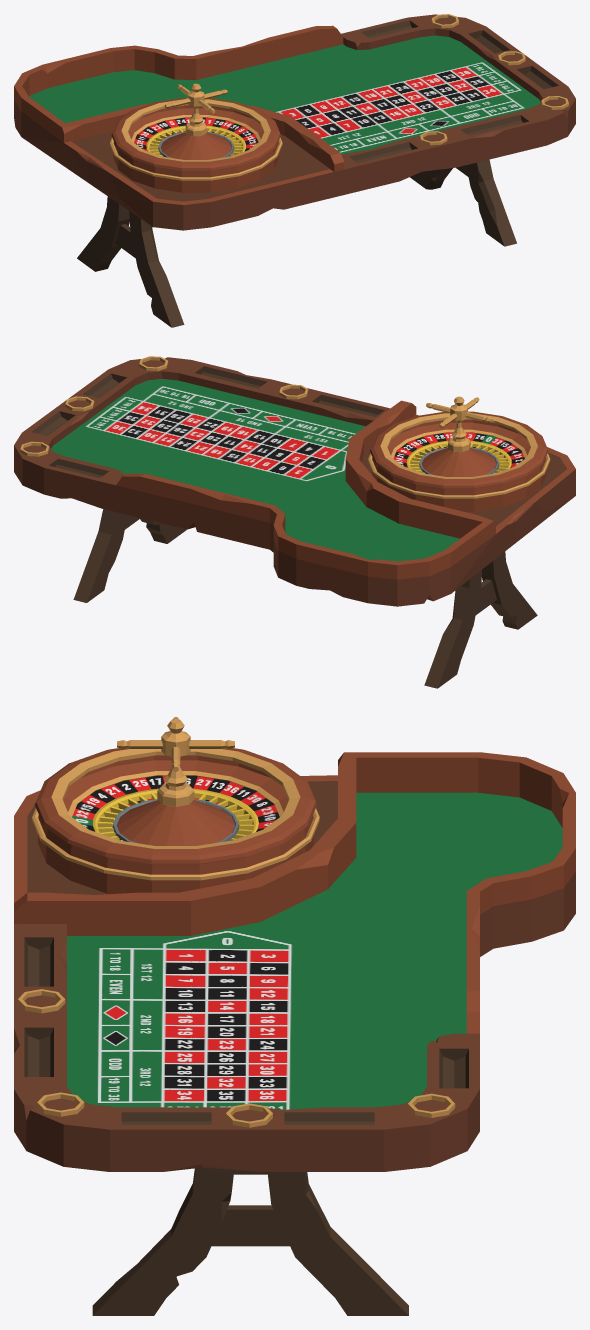
The model's file is SM_Prop_Roulette_Table_01_Alt.fbx.
3 renders of one model, top to bottom at view 1: azimuth 30°, elevation 25°; view 2: azimuth 150°, elevation 25°; view 3: azimuth 270°, elevation 25°, orthographic. The views are drawn at different scales.
Parts seen in each view (by area): view 1: SM_Prop_Roulette_Table_01_Alt, SM_Prop_Roulette_Table_01_Wheel_01; view 2: SM_Prop_Roulette_Table_01_Alt, SM_Prop_Roulette_Table_01_Wheel_01; view 3: SM_Prop_Roulette_Table_01_Alt, SM_Prop_Roulette_Table_01_Wheel_01.
Boxes of the visible parts, x1=… form: SM_Prop_Roulette_Table_01_Alt: x1=14, y1=14, x2=575, y2=327; SM_Prop_Roulette_Table_01_Wheel_01: x1=134, y1=83, x2=258, y2=159; SM_Prop_Roulette_Table_01_Alt: x1=14, y1=356, x2=575, y2=688; SM_Prop_Roulette_Table_01_Wheel_01: x1=393, y1=396, x2=524, y2=476; SM_Prop_Roulette_Table_01_Alt: x1=14, y1=747, x2=575, y2=1315; SM_Prop_Roulette_Table_01_Wheel_01: x1=72, y1=717, x2=279, y2=845.
Bounding box in the file's own units: 269 × 125 × 181.
